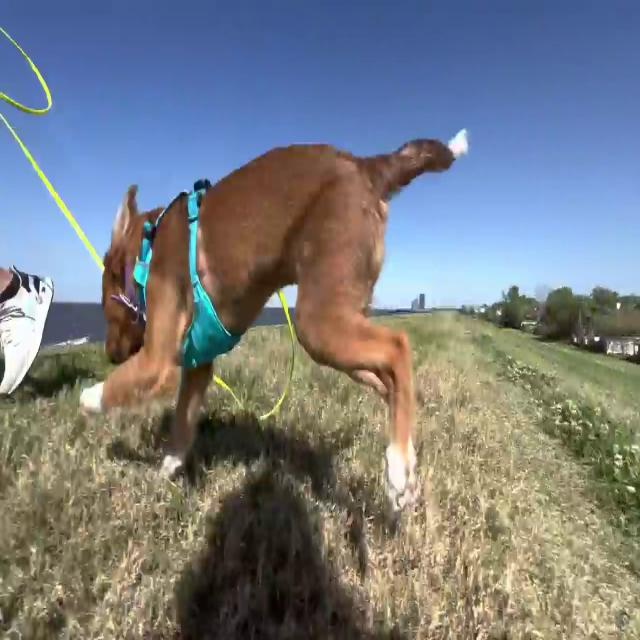Dog: (79, 128, 471, 508)
